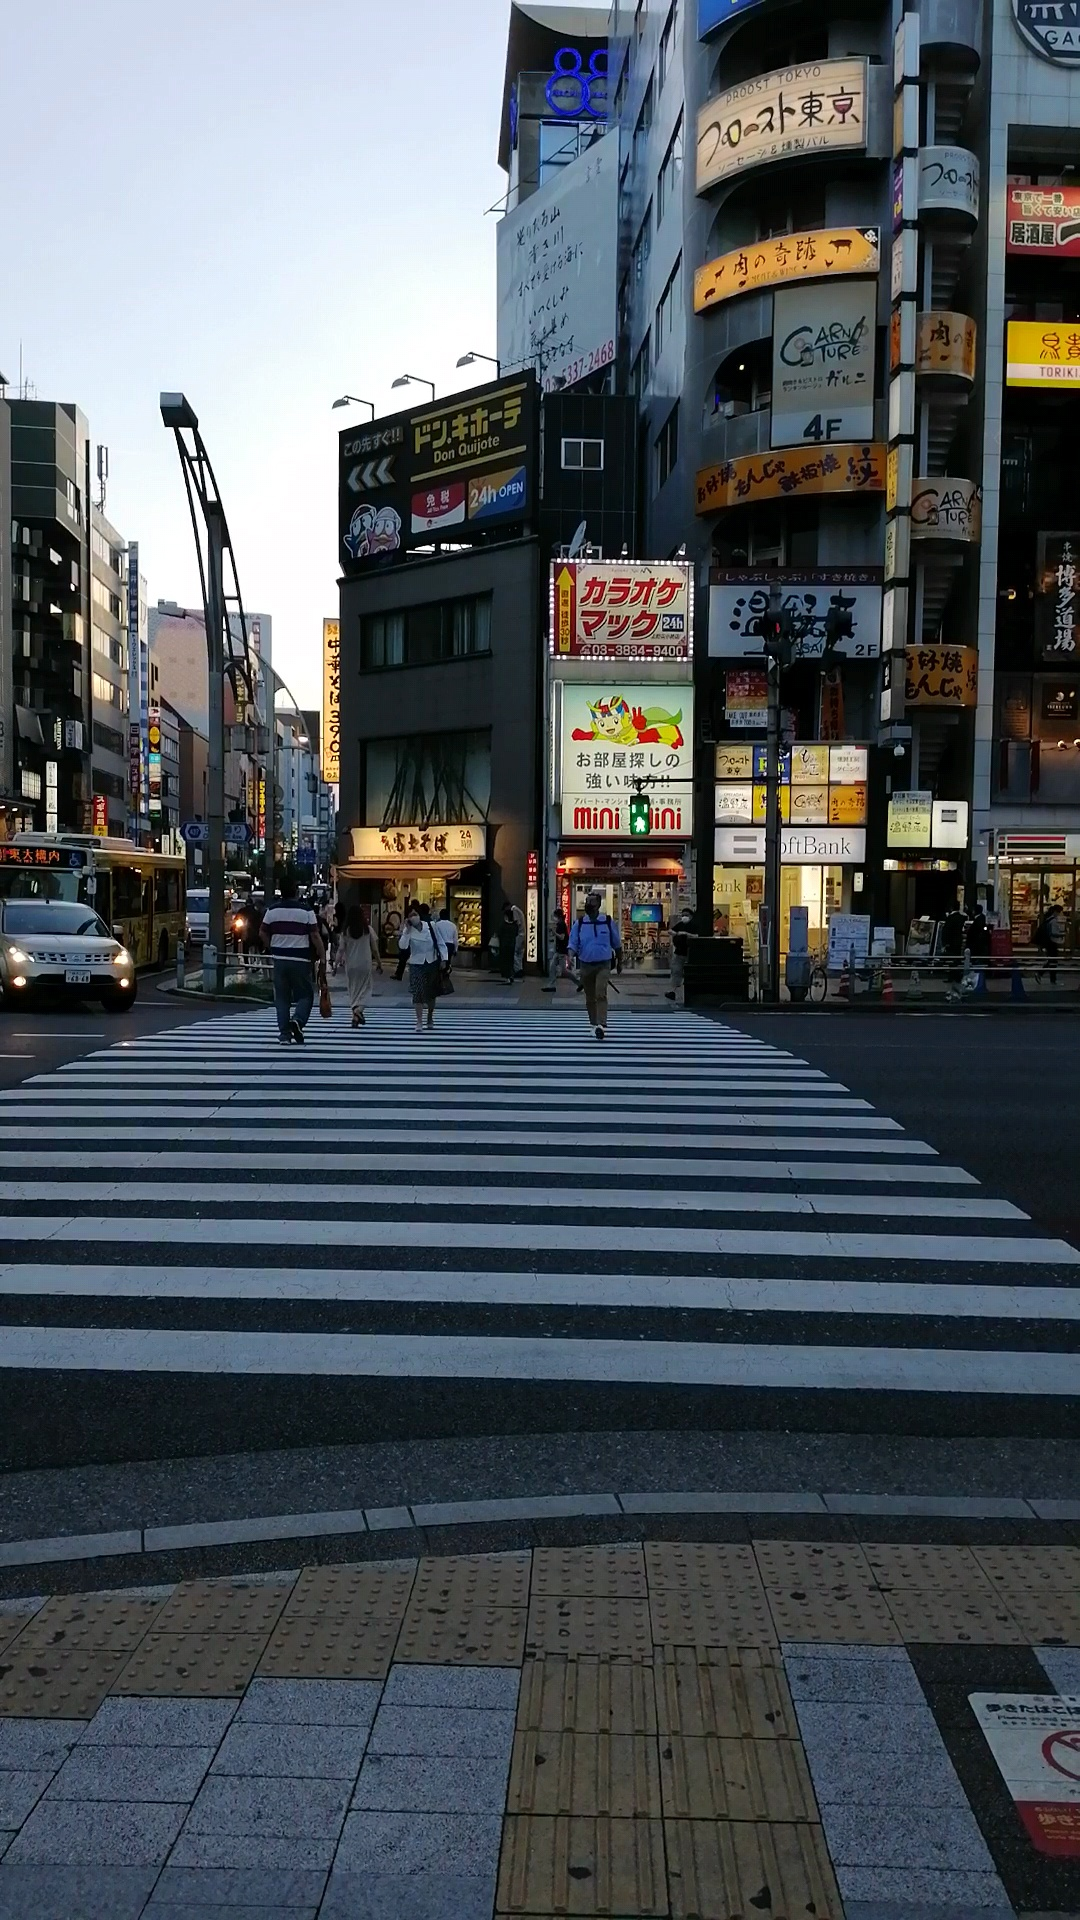green: (628, 793, 651, 837)
